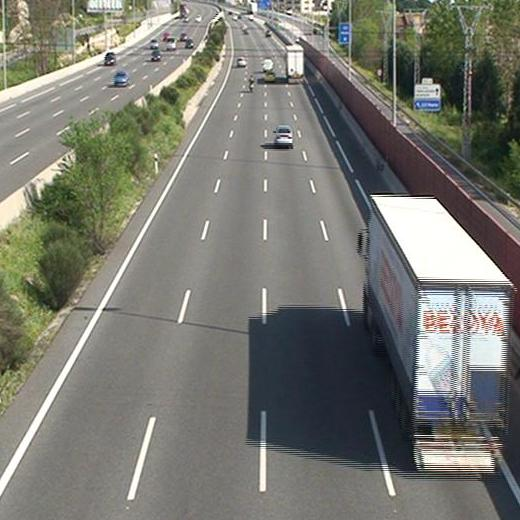car: (275, 126, 293, 145), (263, 70, 274, 82), (236, 57, 247, 69)
motorcycle: (247, 73, 255, 92)
truck: (361, 194, 516, 472), (286, 44, 303, 82)
van: (263, 58, 274, 74)
